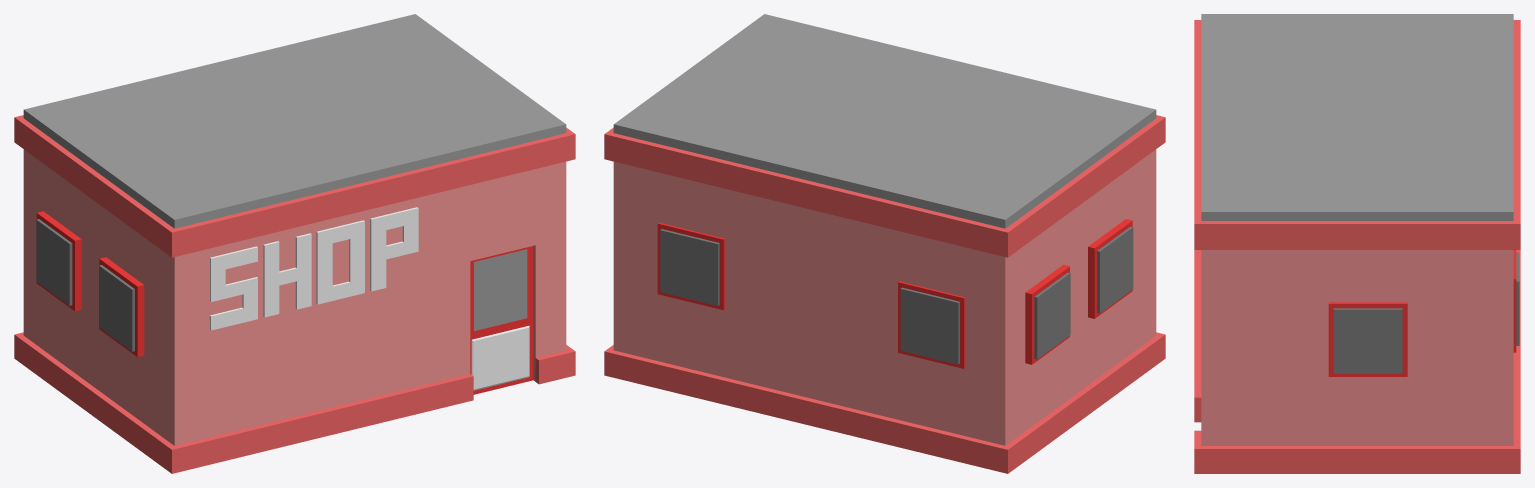
Rendered from SM_House_02_04.FBX.
3 views of the same model, side by side, from view 1: azimuth 30°, elevation 25°; view 2: azimuth 150°, elevation 25°; view 3: azimuth 270°, elevation 25° (orthographic). The views are drawn at different scales.
Size of the model in its own units: 6.24 by 3.66 by 4.18.
Materials: 1 (1 with a texture image).
